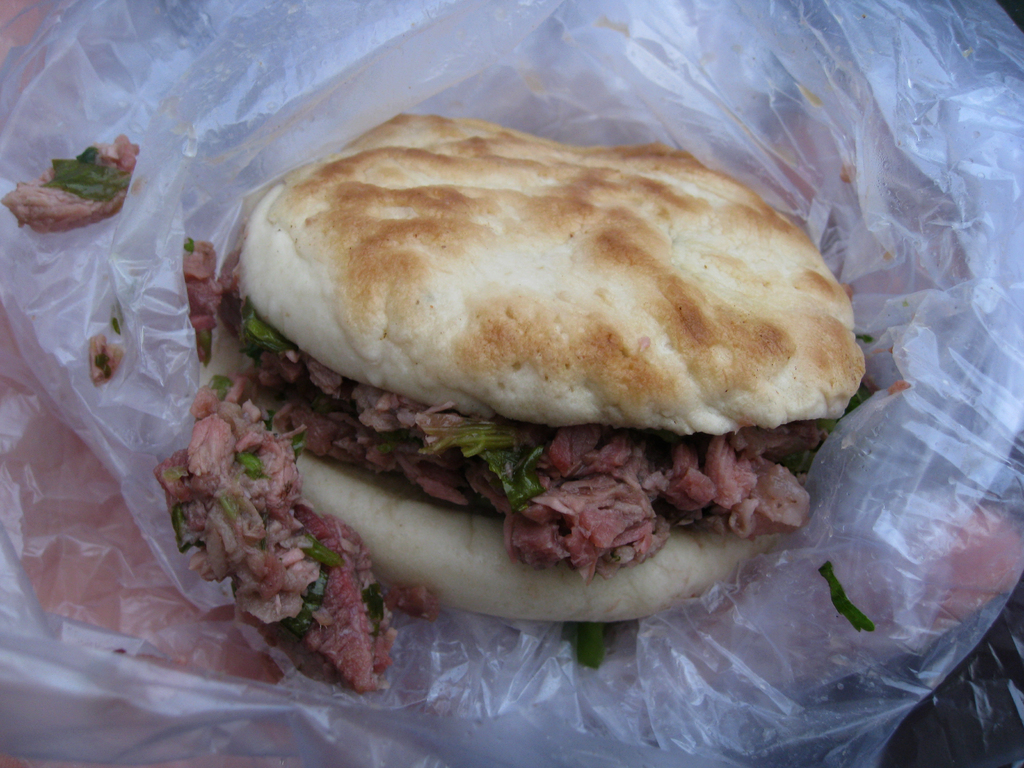Hamburger: (208, 117, 869, 623)
